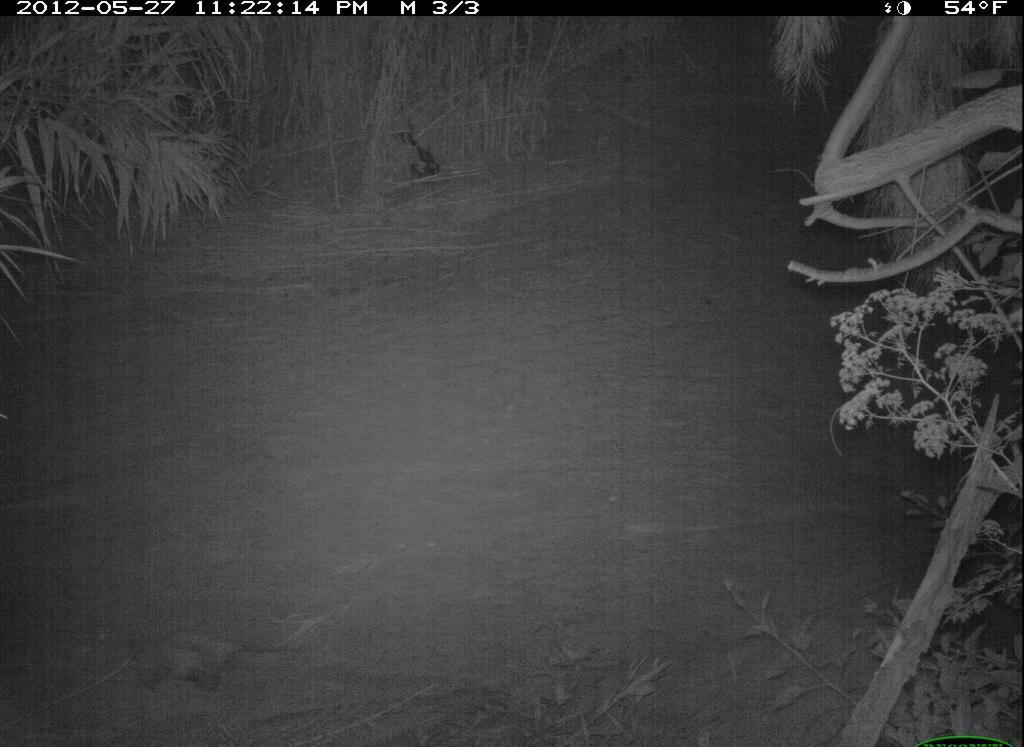opossum: (125, 610, 305, 696)
